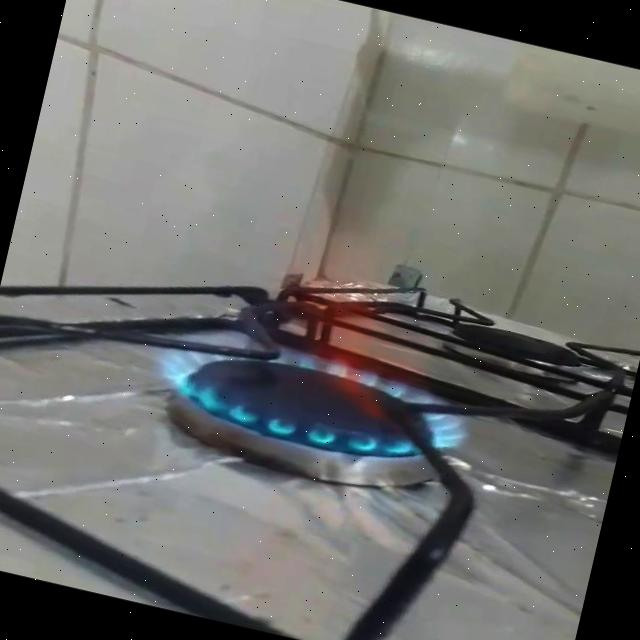fire: (136, 190, 510, 490)
